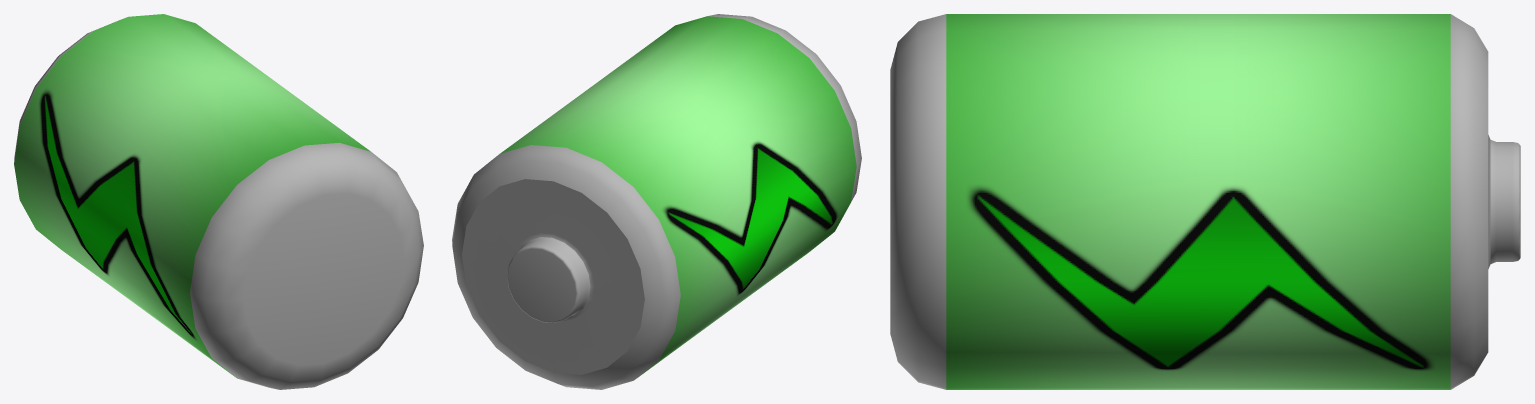
The model's file is Battery.fbx.
3 views of the same model, side by side, from view 1: azimuth 30°, elevation 25°; view 2: azimuth 150°, elevation 25°; view 3: azimuth 270°, elevation 25° (orthographic). The views are drawn at different scales.
Visible parts, largest first — view 1: pCylinder1; view 2: pCylinder1; view 3: pCylinder1.
Part boxes in pixels (bbox=[...]): pCylinder1: bbox=[14, 14, 423, 389]; pCylinder1: bbox=[452, 14, 861, 389]; pCylinder1: bbox=[890, 14, 1520, 389].
Bounding box in the file's own units: 1.85 × 1.85 × 3.08.
